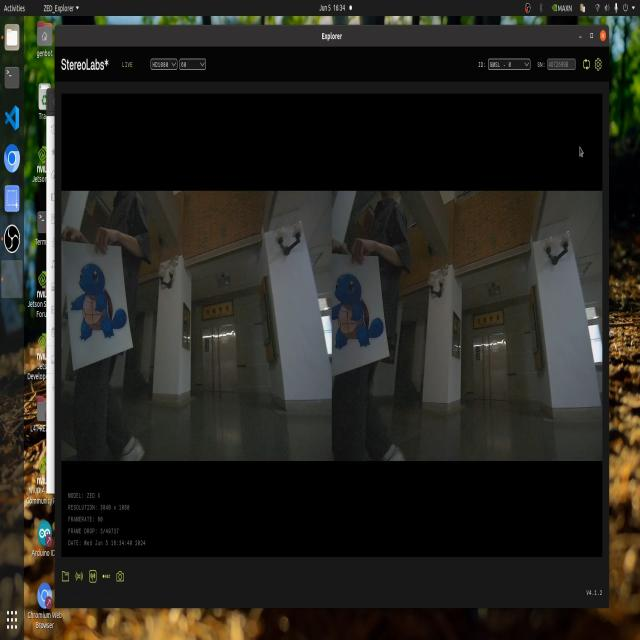blue: (327, 254, 386, 350), (72, 250, 129, 347)
